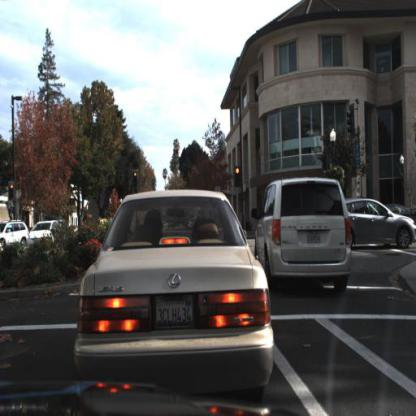car: (78, 186, 267, 384), (254, 176, 350, 291), (334, 195, 415, 252), (23, 217, 63, 245), (0, 220, 29, 247)
trafficLight-Red: (233, 165, 241, 188), (8, 180, 15, 200), (131, 169, 137, 188)
